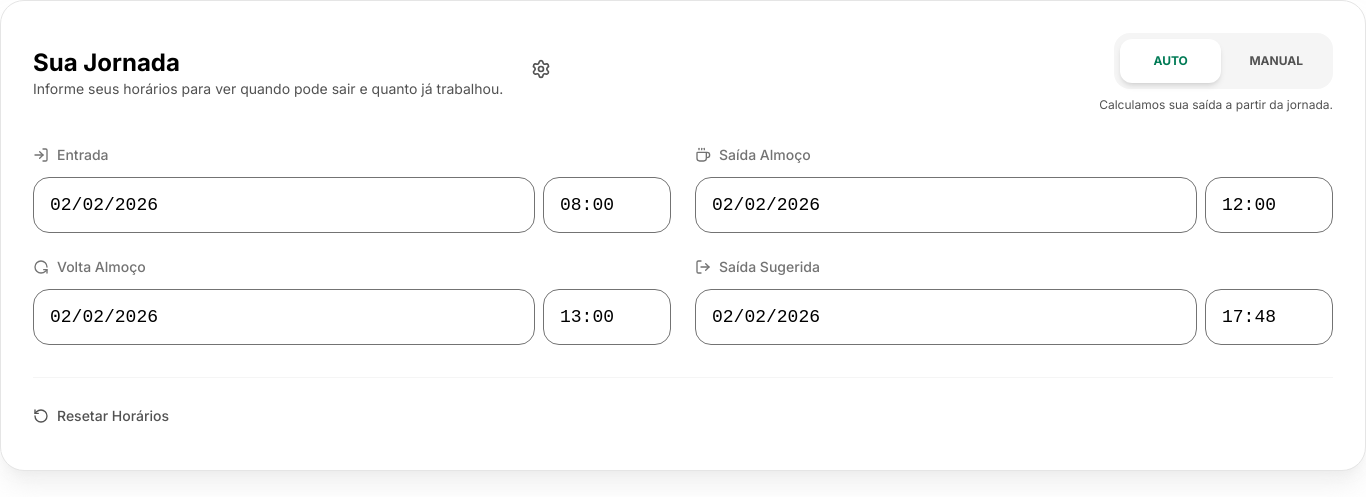
Test: JourneyForm › renames the exit field once the exit stops being suggested
Click the radio button labelled "MANUAL" at (1276, 60), box [1249,53,1303,68]
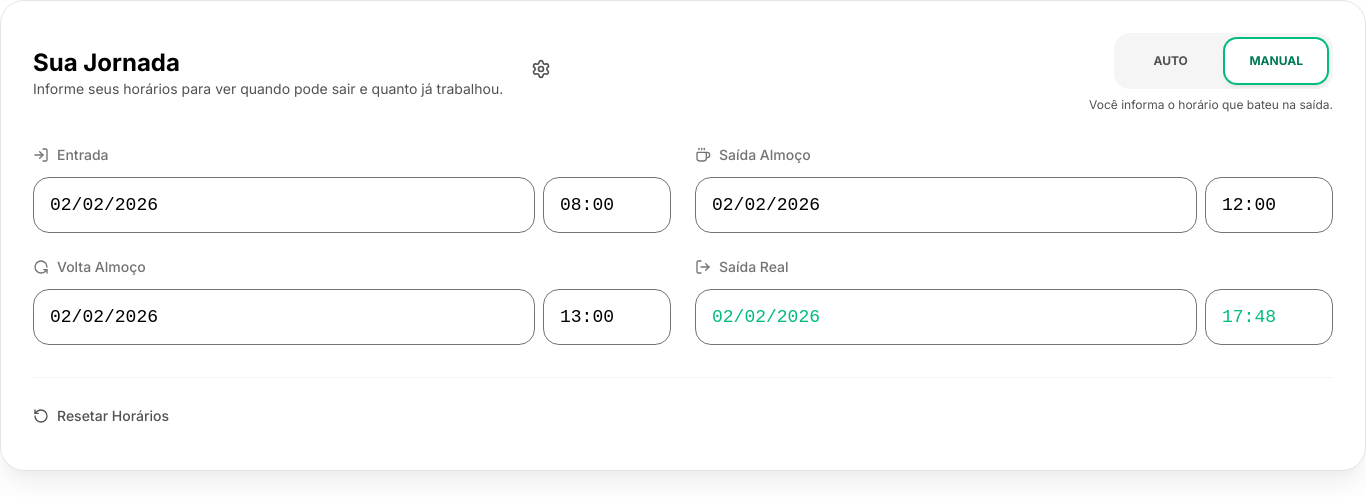
Expected: the field labelled "Saída Real" is shown, [695,289,1197,345]
Expected: the label labelled "Saída Sugerida" is gone
